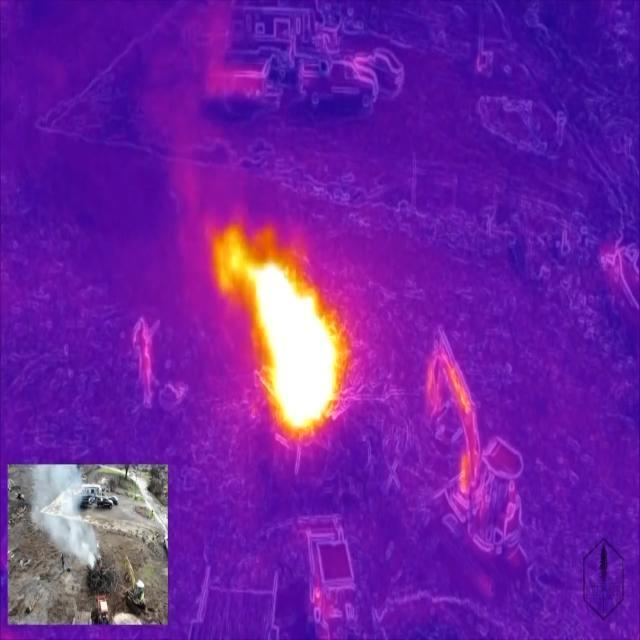fire: (220, 227, 344, 436)
